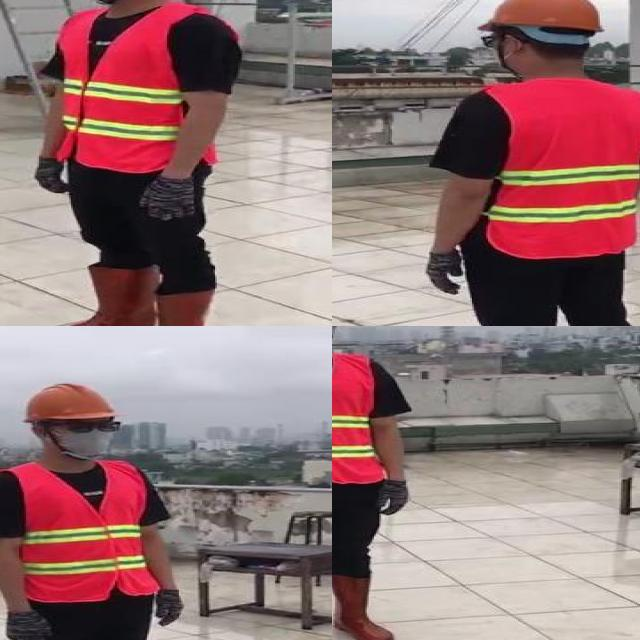boots: (49, 264, 158, 326), (332, 573, 395, 640), (121, 289, 215, 326)
face_mask: (50, 414, 118, 462)
glasses: (46, 416, 126, 436)
hand_glove: (138, 179, 200, 218), (420, 252, 474, 293), (0, 611, 61, 640), (32, 156, 73, 197), (150, 588, 180, 627), (376, 481, 408, 516)
head_helmet: (480, 0, 611, 36), (20, 380, 119, 422)
person: (19, 0, 248, 326), (418, 0, 640, 326), (0, 376, 190, 640), (332, 326, 429, 640)
vest: (53, 4, 224, 174), (479, 78, 640, 258), (5, 463, 161, 605), (332, 352, 383, 484)
